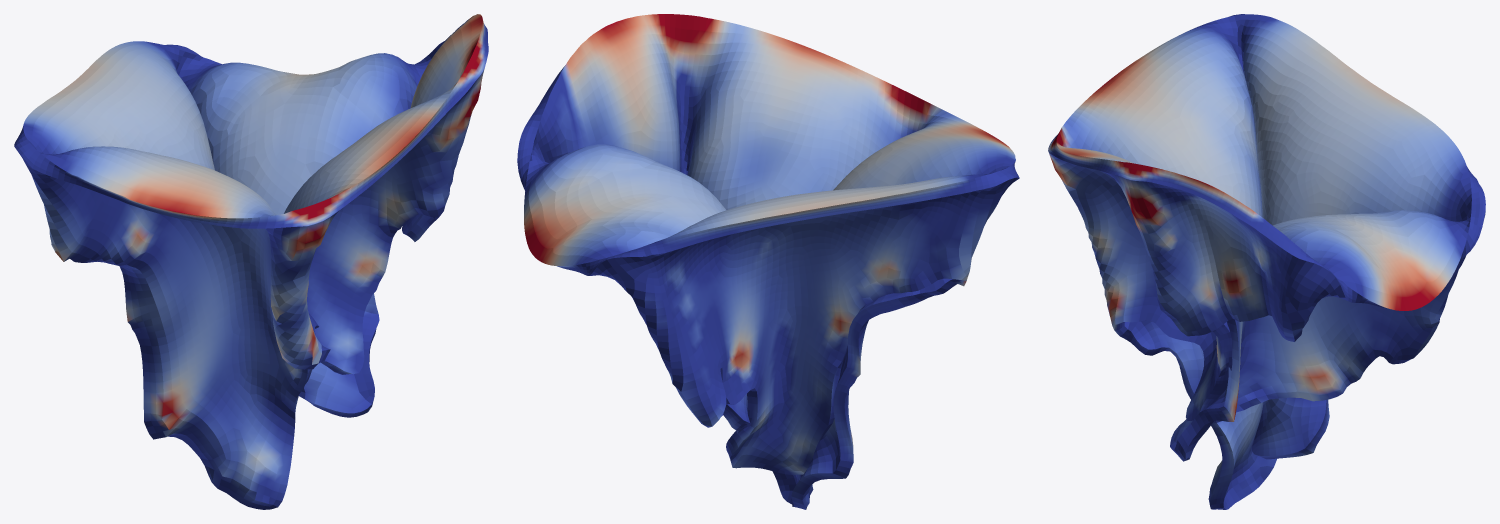
The picture shows the model from 3 angles, left to right: view 1: azimuth 30°, elevation 25°; view 2: azimuth 150°, elevation 25°; view 3: azimuth 270°, elevation 25°; orthographic projection. The views are drawn at different scales.
Parts seen in each view (by area): view 1: OCS14_maxS_15; view 2: OCS14_maxS_15; view 3: OCS14_maxS_15.
Boxes of the visible parts, x1,y1,x2,y2 form: OCS14_maxS_15: (14,14,488,509); OCS14_maxS_15: (517,14,1019,509); OCS14_maxS_15: (1048,14,1485,509).
Size of the model in its own units: 1.41 by 1.28 by 1.19.
